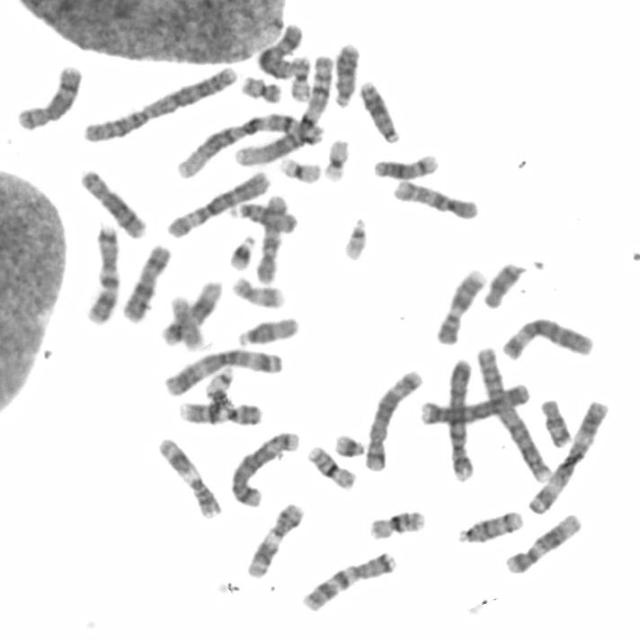A1: (232, 52, 336, 169), (172, 109, 324, 181)
A2: (78, 61, 240, 145), (473, 342, 552, 484)
A3: (524, 396, 611, 516), (160, 345, 284, 398)
B4: (416, 380, 533, 428), (444, 355, 475, 483)
B5: (360, 365, 424, 474), (227, 427, 302, 510)
C10: (390, 176, 480, 222), (252, 192, 290, 284)
C11: (154, 434, 223, 522), (242, 500, 306, 580)
C12: (502, 509, 584, 576), (157, 277, 225, 348)
C6: (162, 168, 270, 240), (497, 314, 595, 362)
C7: (298, 548, 398, 613), (81, 223, 121, 326)
C8: (78, 167, 148, 240), (13, 63, 86, 132)
C9: (432, 265, 488, 347), (175, 398, 264, 428)
D13: (357, 77, 400, 146), (330, 41, 361, 108)
D14: (454, 508, 525, 545), (370, 150, 440, 181)
D15: (228, 200, 298, 234), (234, 313, 300, 349)
E16: (304, 442, 358, 492), (365, 507, 428, 541)
E17: (168, 293, 204, 352), (229, 274, 287, 310)
E18: (480, 259, 527, 310), (536, 394, 572, 448)
F19: (276, 154, 324, 185), (320, 136, 351, 183)
F20: (238, 72, 283, 105), (288, 57, 314, 95)
G21: (227, 232, 257, 272), (332, 430, 366, 459)
G22: (338, 213, 371, 263), (204, 364, 236, 398)
X: (118, 242, 173, 325), (254, 21, 303, 80)
